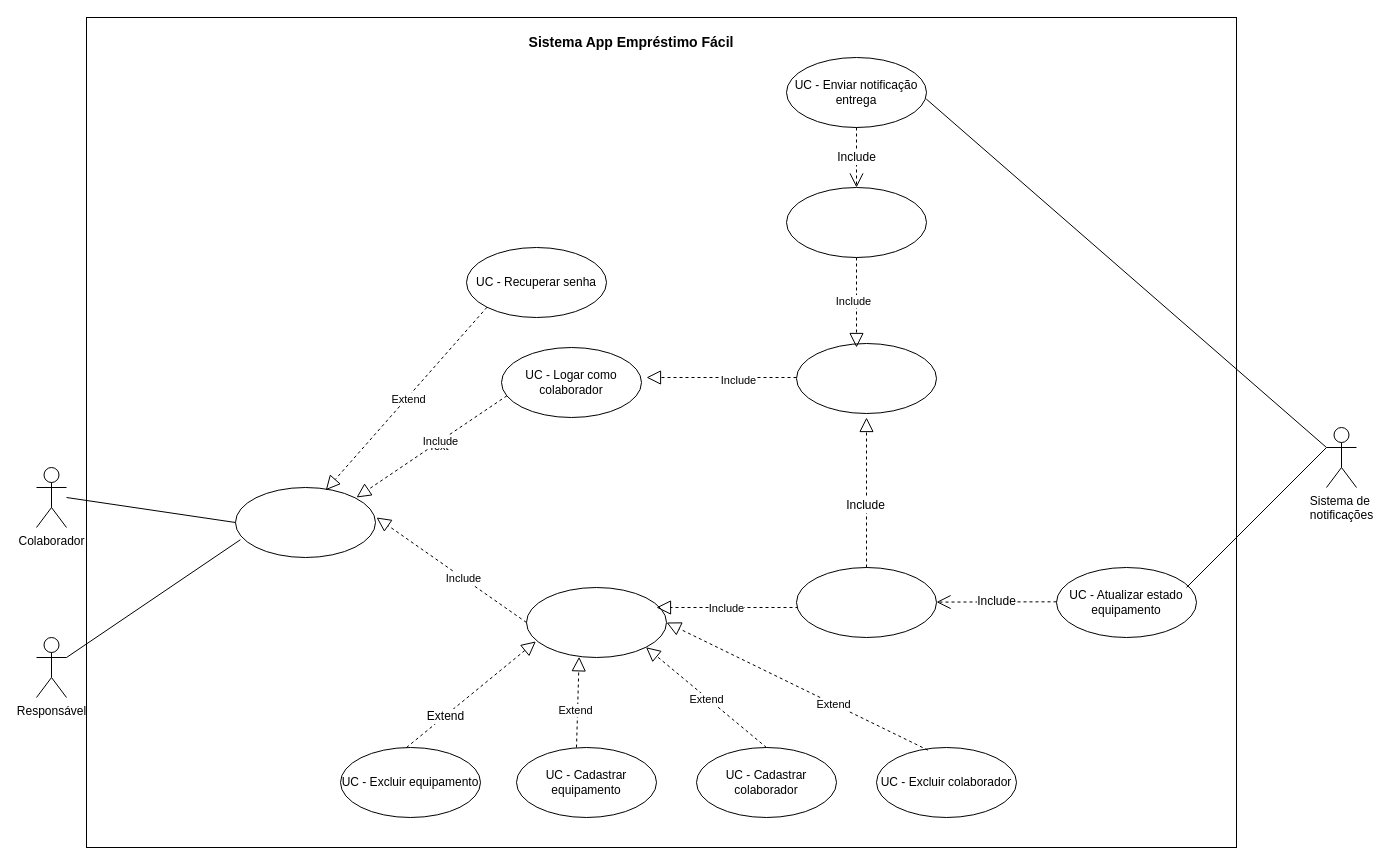
This 1390x865 diagram has some shape labels left out. Here are the shapes that lost their labels. From the top down, the box of each, then its label:
(786, 186, 926, 258): UC - Consultar estado pedido
(796, 342, 936, 414): UC - Efetuar pedido equipamento
(234, 486, 376, 558): UC - Logar no sistema
(526, 586, 666, 658): UC - Logar como responsável
(796, 566, 936, 638): UC - Validar pedido
